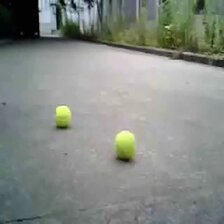tennis: (115, 131, 135, 157), (56, 105, 71, 127)
